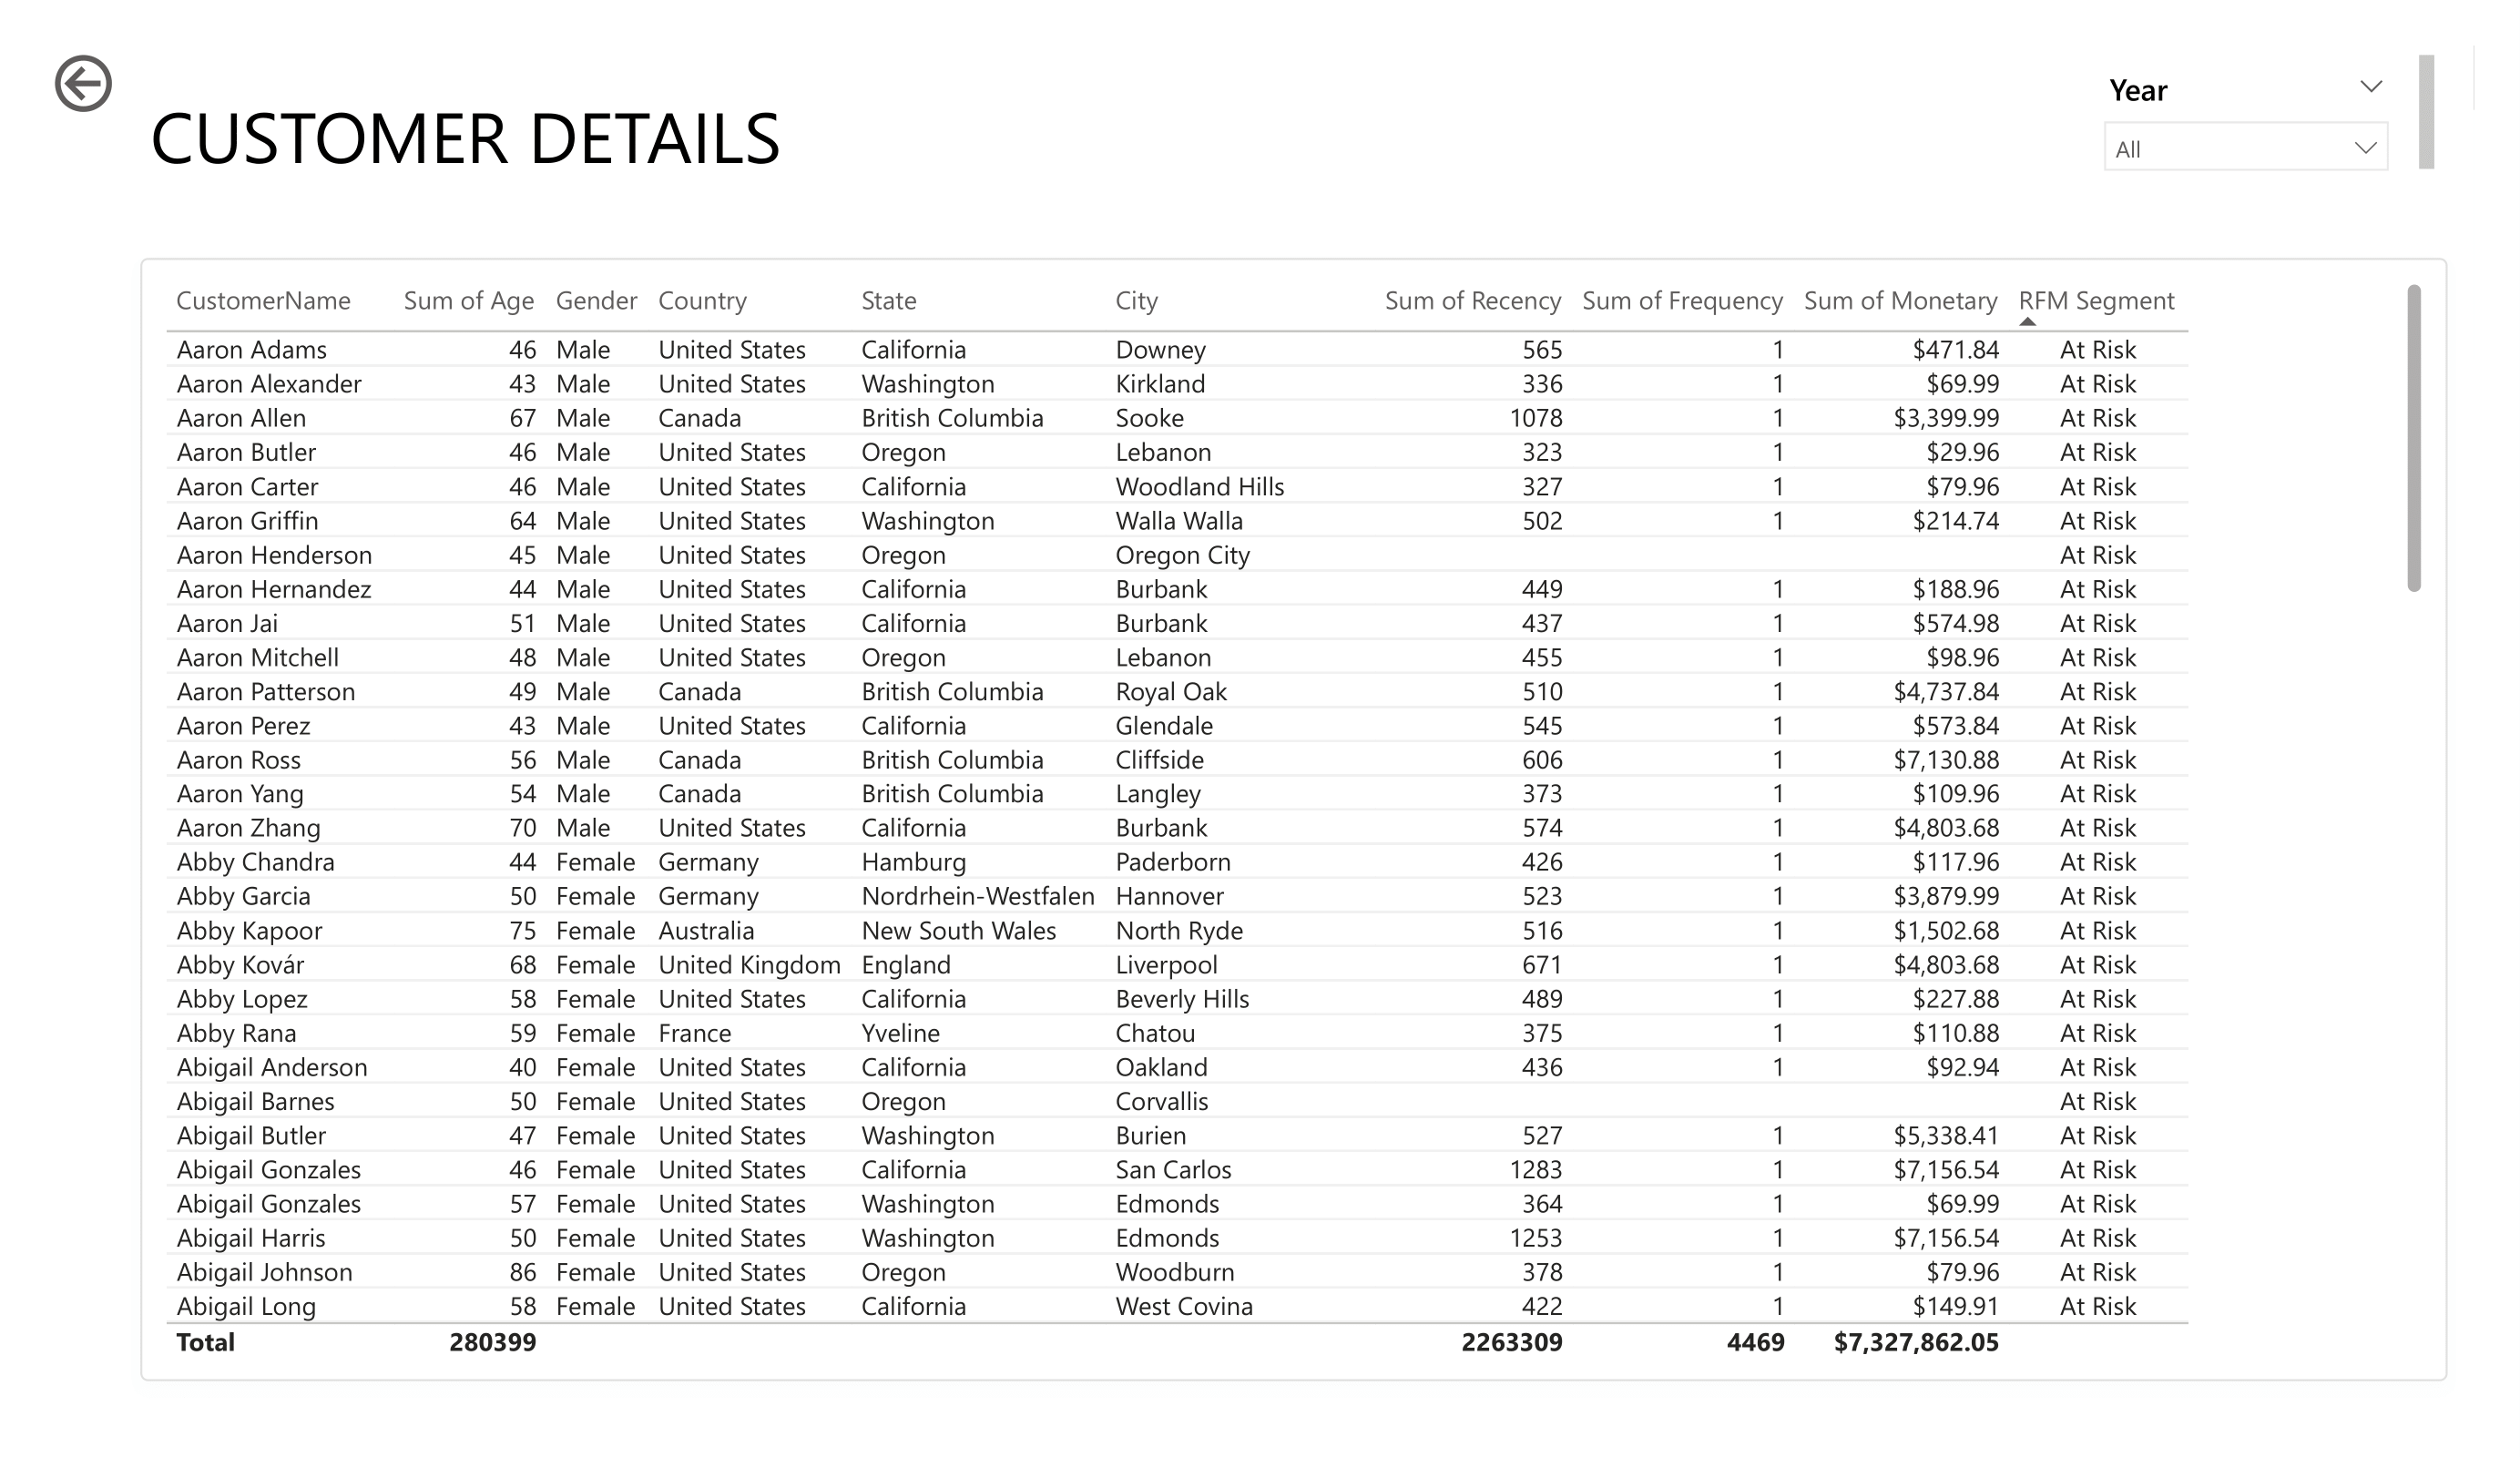

The page's visual inventory and layout, read from the dashboard file:
{"tool":"powerbi","page":{"name":"Customer Details","canvas":[1280,720],"ordinal":2},"visuals":[{"type":"textbox","box":[50,0,1214,94],"z":0},{"type":"tableEx","fields":{"Values":["Customer_dim.CustomerName","Sum(Customer_dim.Age)","Customer_dim.Gender","Customer_dim.Country Hierarchy.Country","Customer_dim.Country Hierarchy.State","Customer_dim.Country Hierarchy.City","Sum(RFM_Table.Recency)","Sum(RFM_Table.Frequency)","Sum(RFM_Table.Monetary)","RFM_Table.RFM Segment"]},"box":[50,112,1216,592],"z":1000},{"type":"slicer","fields":{"Values":["Date_dim.CalendarYear"]},"box":[1080,12,160,74],"z":2000},{"type":"actionButton","box":[0,0,100,40],"z":3000}]}

Visuals, with their boxes on the page's 1280x720 design canvas (x1, y1, x2, y2). These are canvas units, not pixel positions in the 2520x1457 screenshot, which may show the page scaled, cropped or inside an application window:
textbox: [50,0,1264,94]
tableEx - Customer_dim.CustomerName x Sum(Customer_dim.Age): [50,112,1266,704]
slicer - Date_dim.CalendarYear: [1080,12,1240,86]
actionButton: [0,0,100,40]
